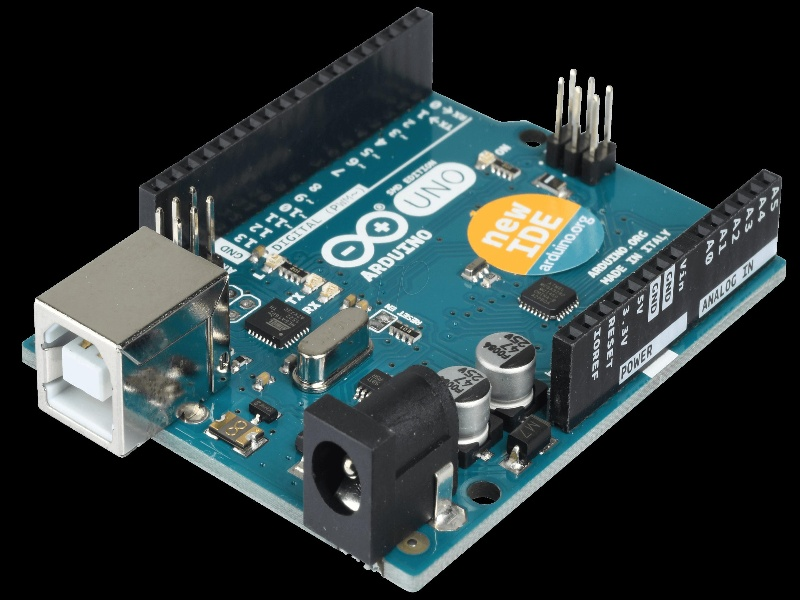uno: (72, 17, 744, 529)
